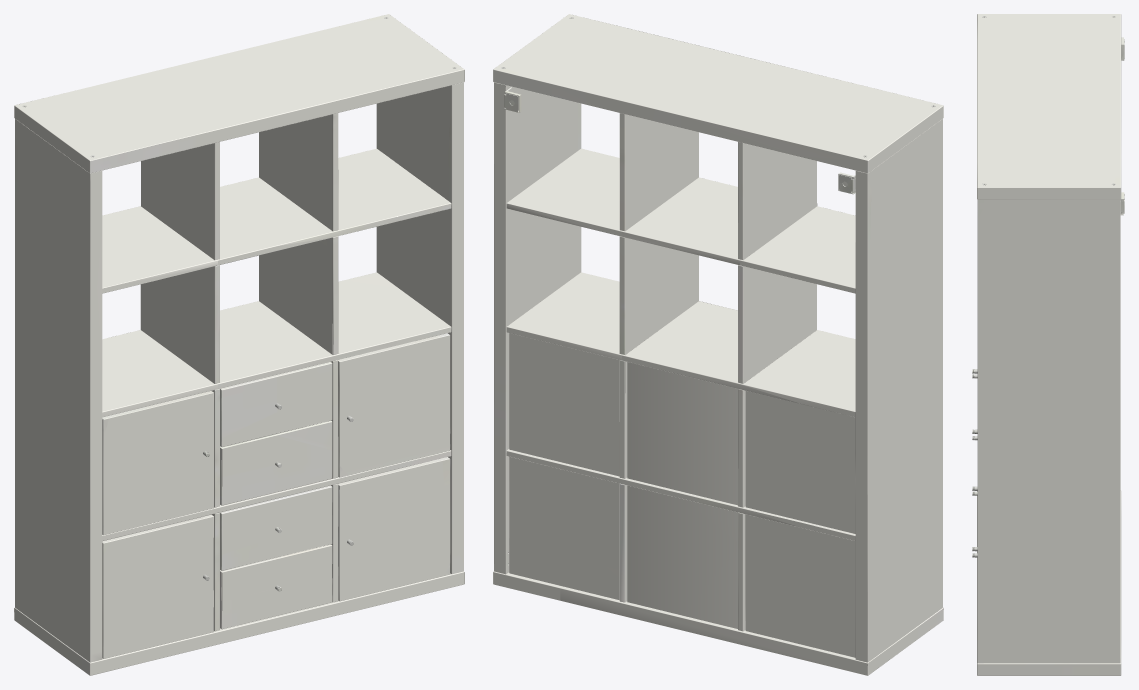
The model's file is kallax_rega_6_wkadow_29278262.glb.
3 views of the same model, side by side, from view 1: azimuth 30°, elevation 25°; view 2: azimuth 150°, elevation 25°; view 3: azimuth 270°, elevation 25° (orthographic). The views are drawn at different scales.
Visible parts, largest first — view 1: kallax_rega_6_wkadow_29278262; view 2: kallax_rega_6_wkadow_29278262; view 3: kallax_rega_6_wkadow_29278262.
Part boxes in pixels (x1=…): kallax_rega_6_wkadow_29278262: x1=14, y1=14, x2=464, y2=675; kallax_rega_6_wkadow_29278262: x1=493, y1=14, x2=943, y2=675; kallax_rega_6_wkadow_29278262: x1=972, y1=14, x2=1124, y2=675.
Size of the model in its own units: 1.12 by 1.47 by 0.4145.
2 materials, 1 textured.
